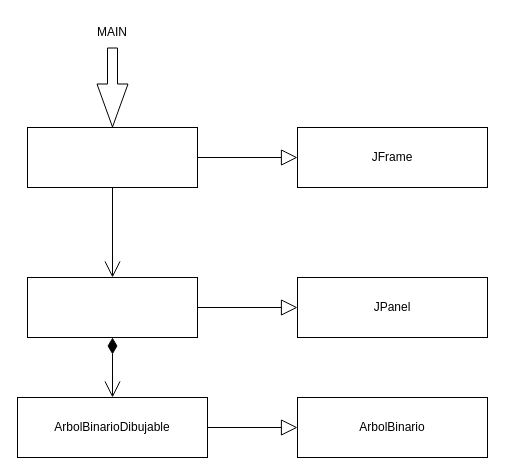
Image size: 505x475. Some labels were removed from this diagram. Here are the shapes that lost their labels. From the top down, the centre of each, then its label:
At [112,157]: "Ventana".
At [112,307]: "Lienzo".
